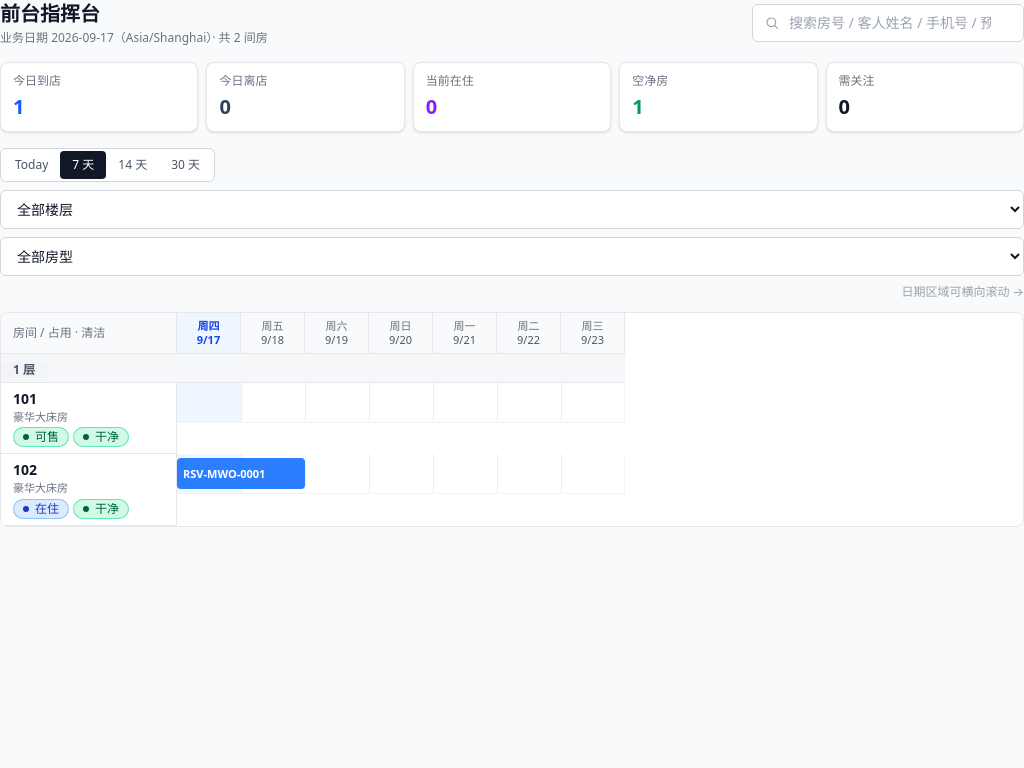
Test: Front Desk × Maintenance（Sprint 5 §38） › Room Quick View 展示 Active 阻断工单：status + blocks_room + assignee + 查看维修
Expected: the button "需关注 0" is shown, [826, 62, 1023, 132]
Click the button "101 豪华大床房 可售 干净": {"x": 88, "y": 418} [13, 388, 164, 447]
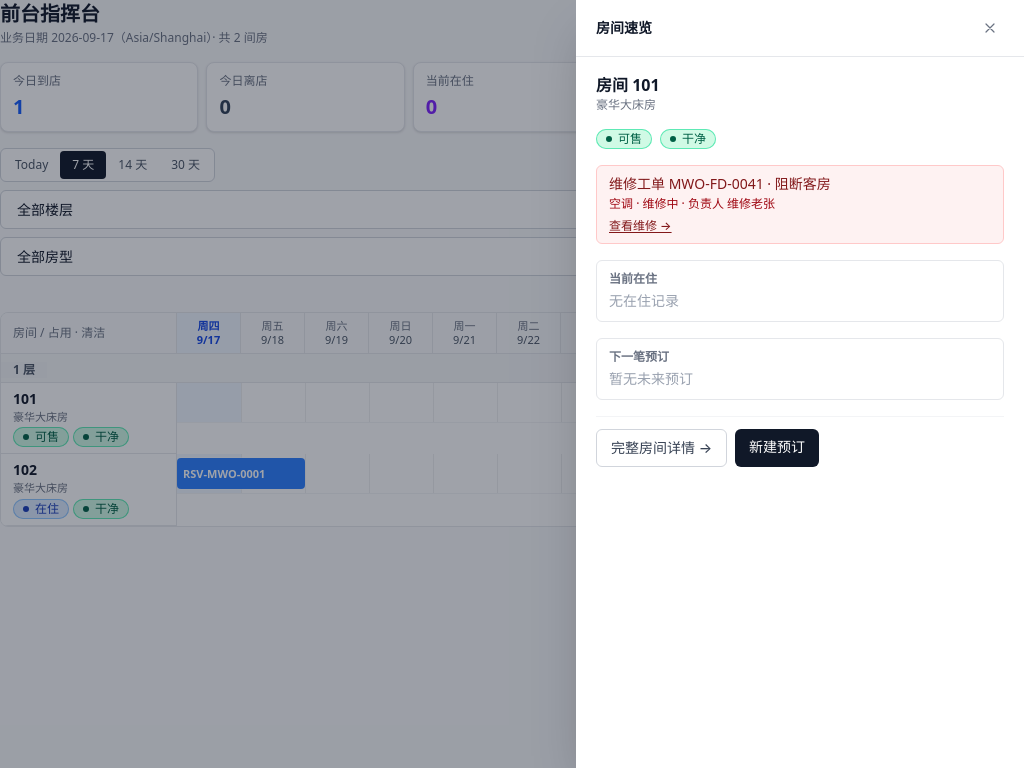
Now the text "维修工单 MWO-FD-0041 · 阻断客房" is shown, box [609, 174, 831, 193]
Now the text "空调 · 维修中 · 负责人 维修老张" is shown, box [609, 195, 775, 212]
